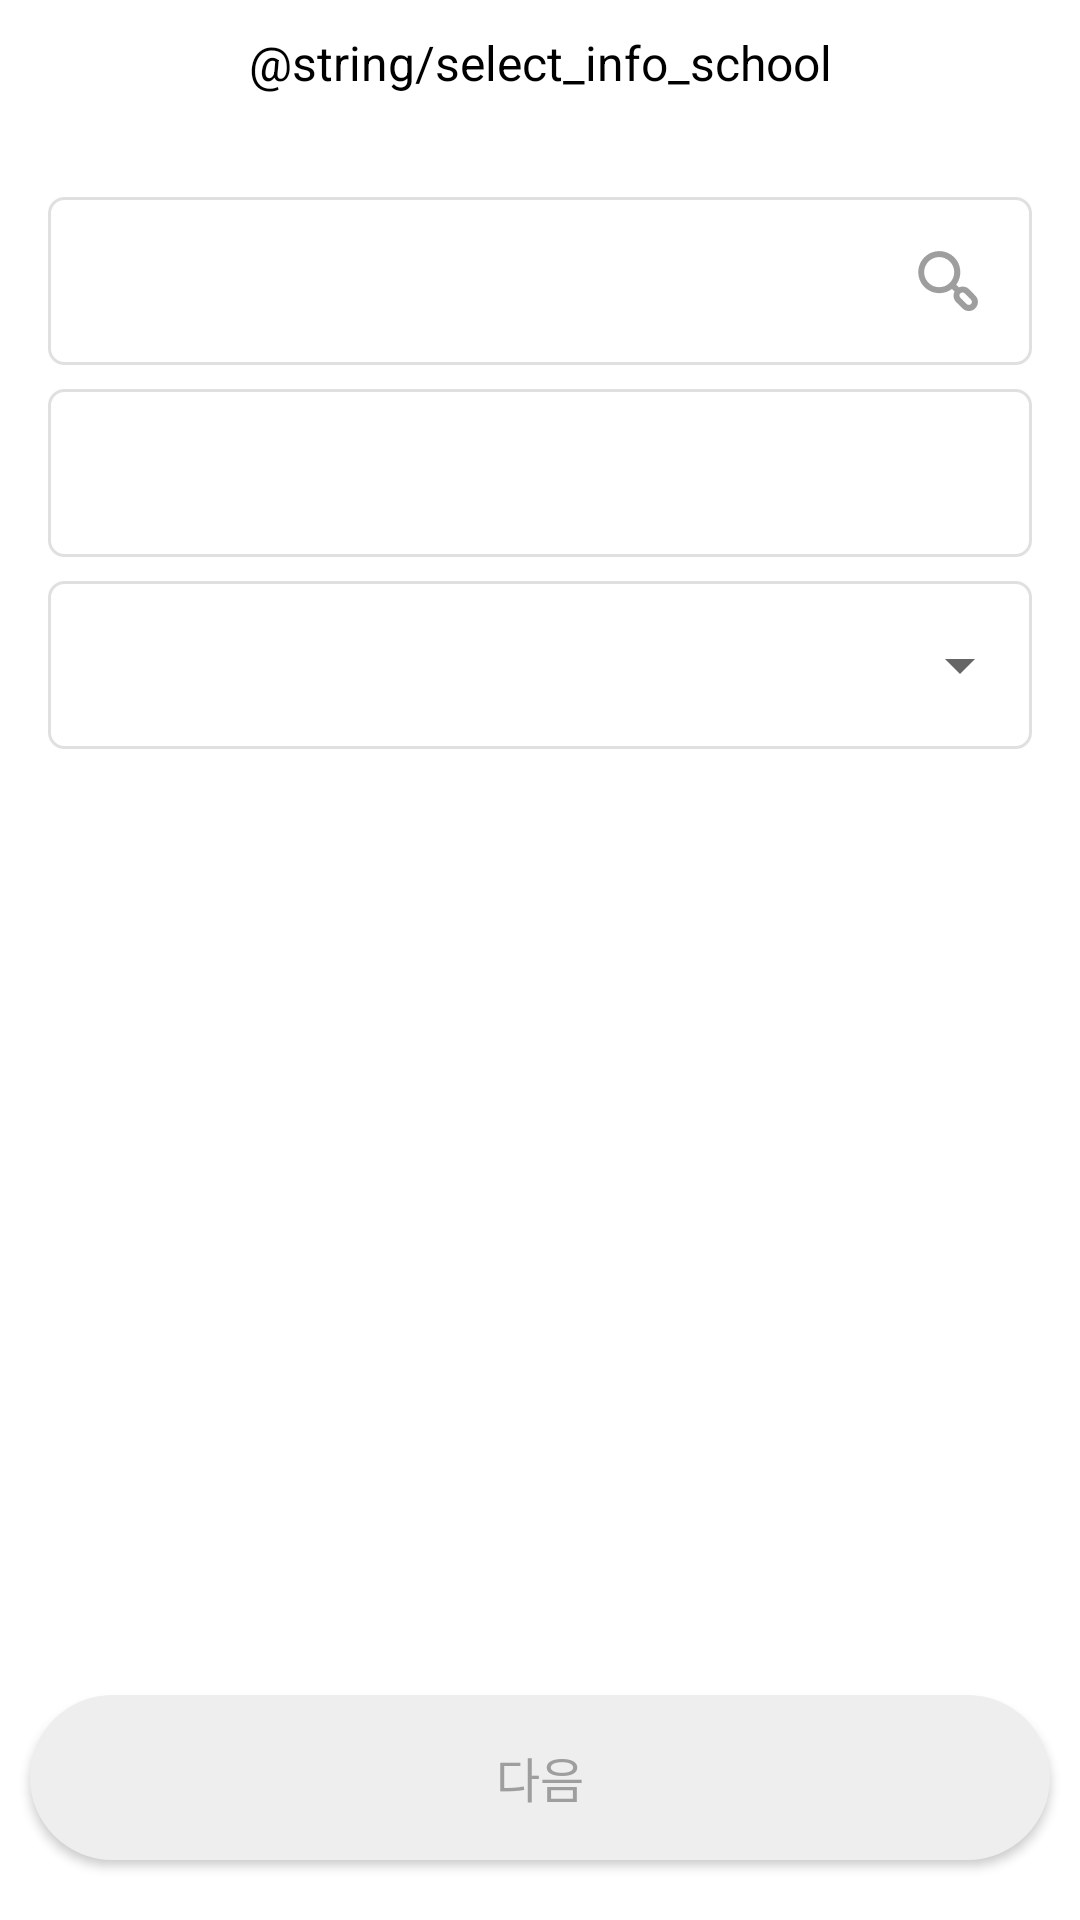

Icon bounding boxes for this 1080px x 1920px phone screenshot, format region(x1, y1, x2, y2):
research: region(918, 251, 978, 311)
